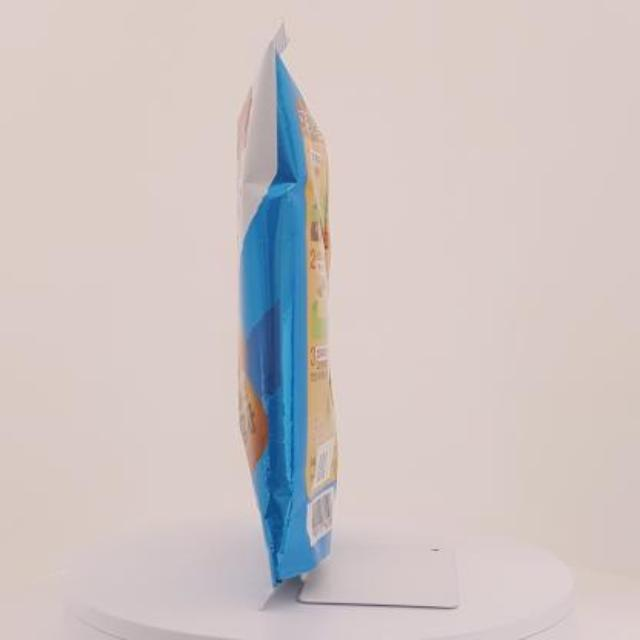snack_bag: (170, 18, 404, 606)
